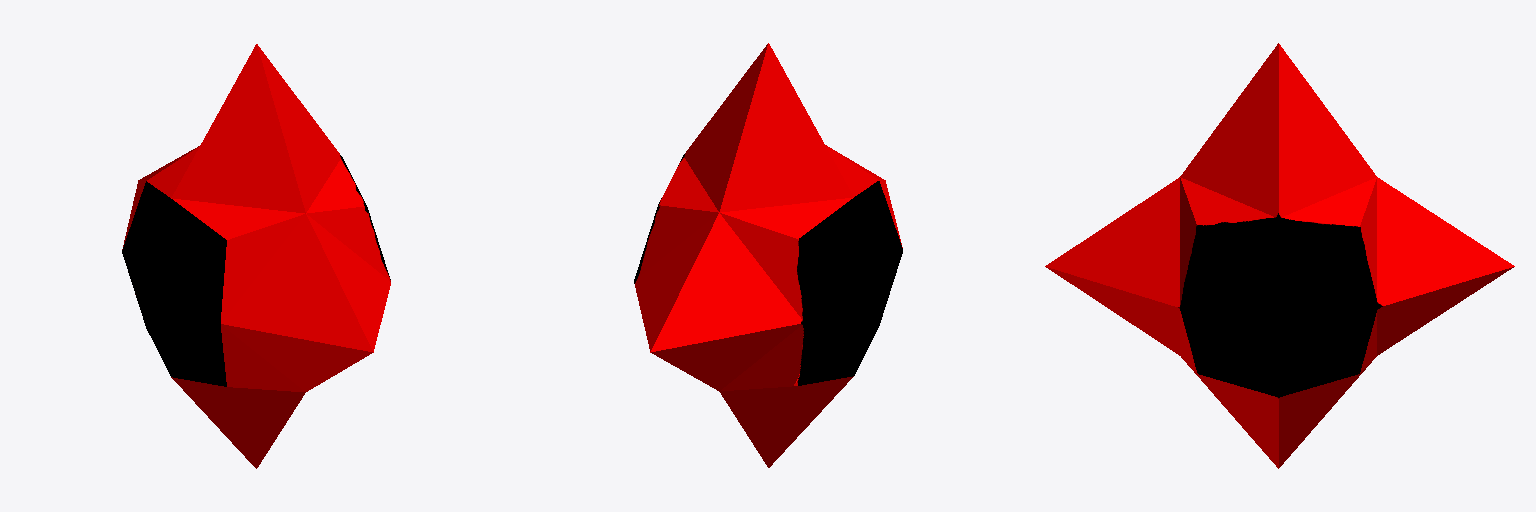
3 views of the same model, side by side, from view 1: azimuth 30°, elevation 25°; view 2: azimuth 150°, elevation 25°; view 3: azimuth 270°, elevation 25° (orthographic).
Visible parts, largest first — view 1: Cube; view 2: Cube; view 3: Cube.
Boxes of the visible parts, <box> form: Cube: <box>122,44,390,468</box>; Cube: <box>634,43,902,467</box>; Cube: <box>1045,43,1514,468</box>.
Bounding box in the file's own units: 1.68 × 2.91 × 2.91.
1 materials, 1 textured.